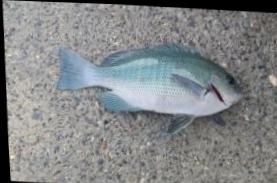fish: (54, 42, 244, 133)
